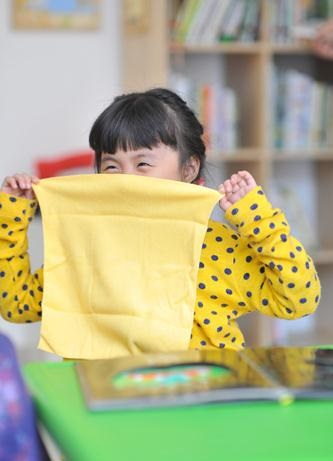face: (98, 129, 179, 238)
